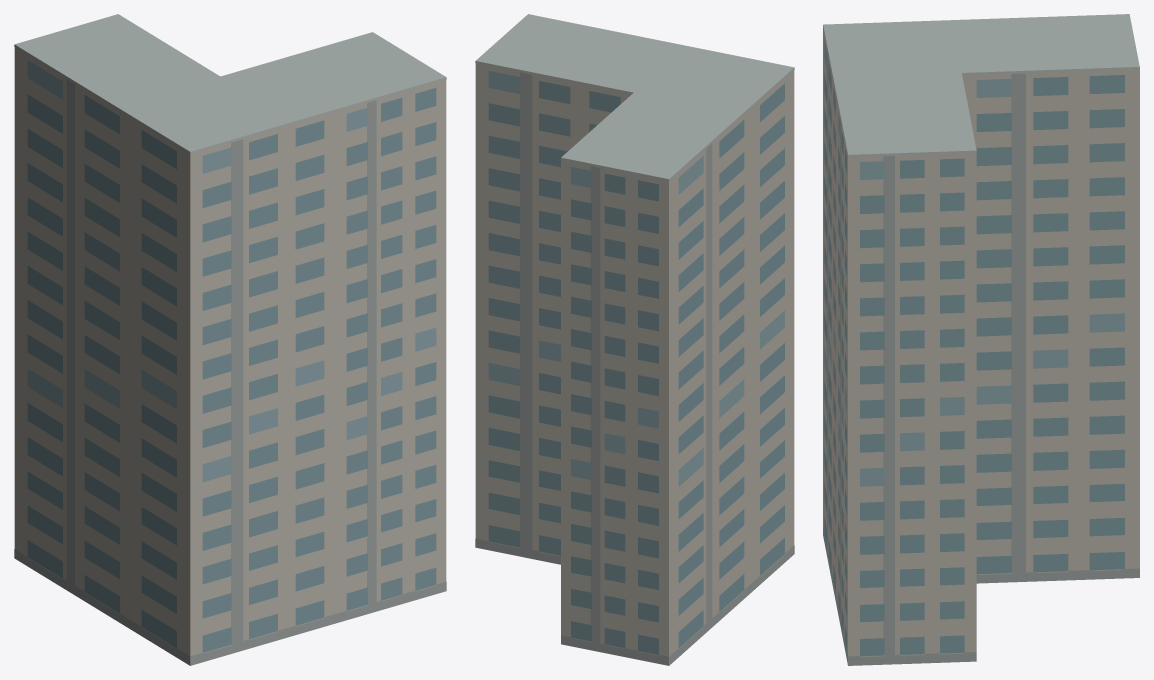
The model's file is residential-af94eab0-7298-4914-846c-b753cee8ad31.glb.
3 views of the same model, side by side, from view 1: azimuth 30°, elevation 25°; view 2: azimuth 150°, elevation 25°; view 3: azimuth 270°, elevation 25° (orthographic). The views are drawn at different scales.
Visible parts, largest first — view 1: residential-af94eab0-7298-4914-846c-b753cee8ad31.tmp; view 2: residential-af94eab0-7298-4914-846c-b753cee8ad31.tmp; view 3: residential-af94eab0-7298-4914-846c-b753cee8ad31.tmp.
Part boxes in pixels (box(x1,y1,x2,y2)): residential-af94eab0-7298-4914-846c-b753cee8ad31.tmp: box(14, 14, 446, 665); residential-af94eab0-7298-4914-846c-b753cee8ad31.tmp: box(475, 14, 794, 665); residential-af94eab0-7298-4914-846c-b753cee8ad31.tmp: box(823, 14, 1139, 665).
Bounding box in the file's own units: 27.21 × 46 × 25.85.
